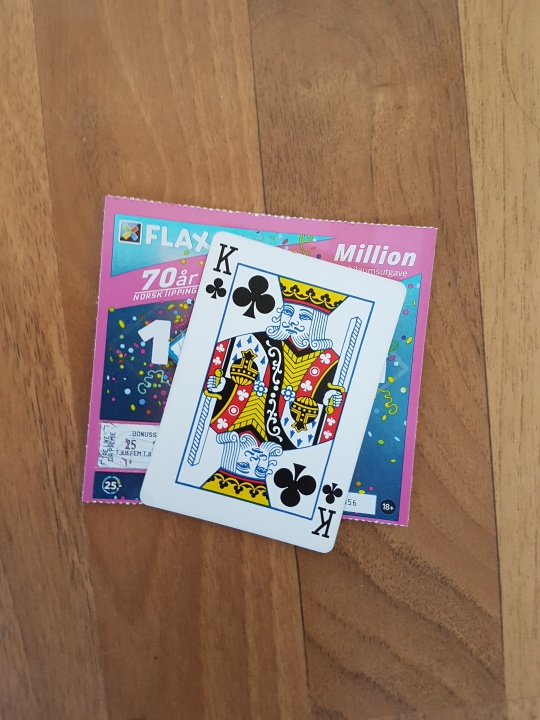king: (137, 226, 410, 560)
